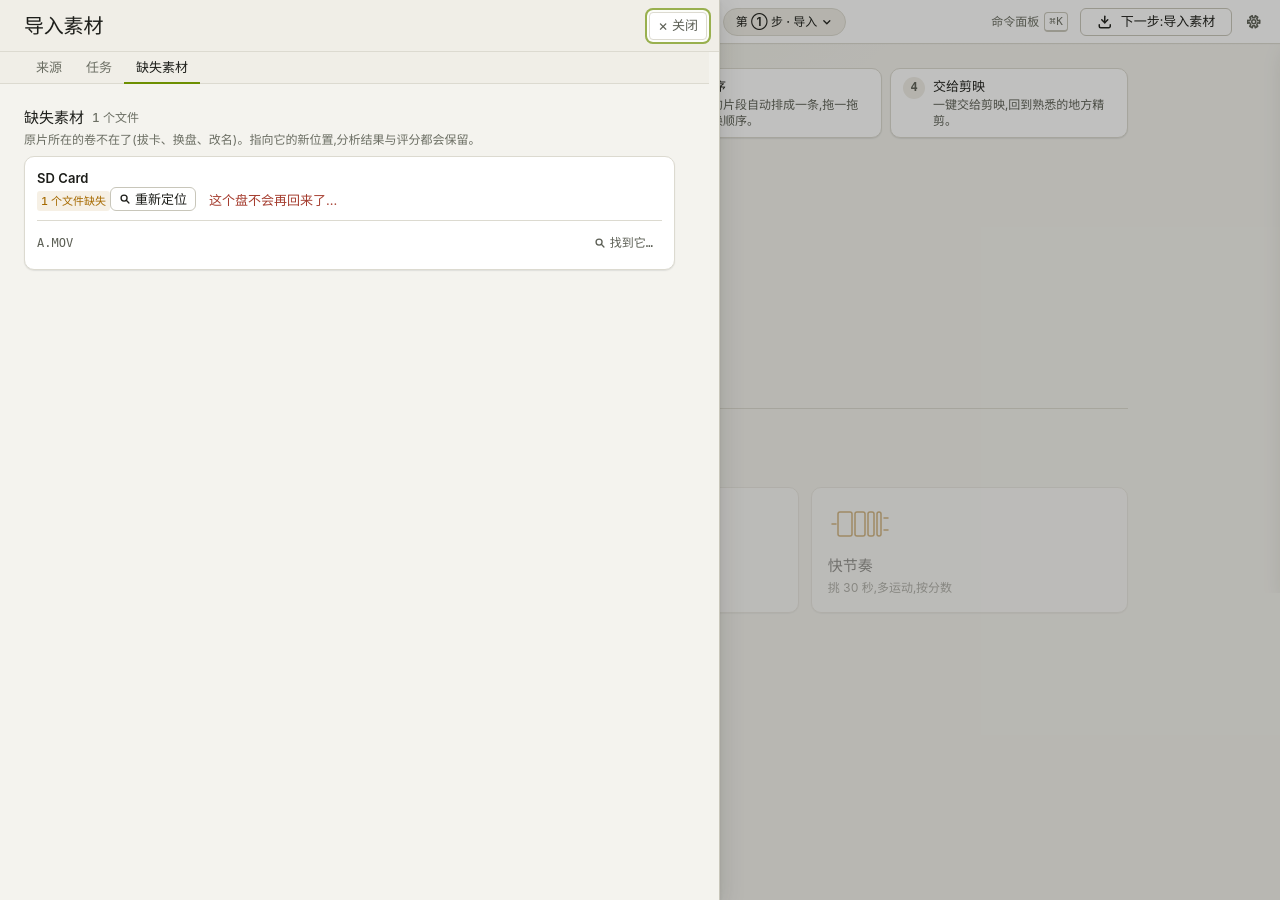
Test: 导入抽屉:原生内容(R9 Task 5) › 缺失素材分页:按卷分组 + 「重新定位」调 relinkVolume,结果摘要文案不变
expect the text "SD Card" is shown: met, box [37,170,88,186]
expect the text "A.MOV" is shown: met, box [37,236,73,250]
What coordinates should you click on to do the following:
click the button "重新定位"
I would click on:
 (153, 199)
Its box is [110,187,196,211].
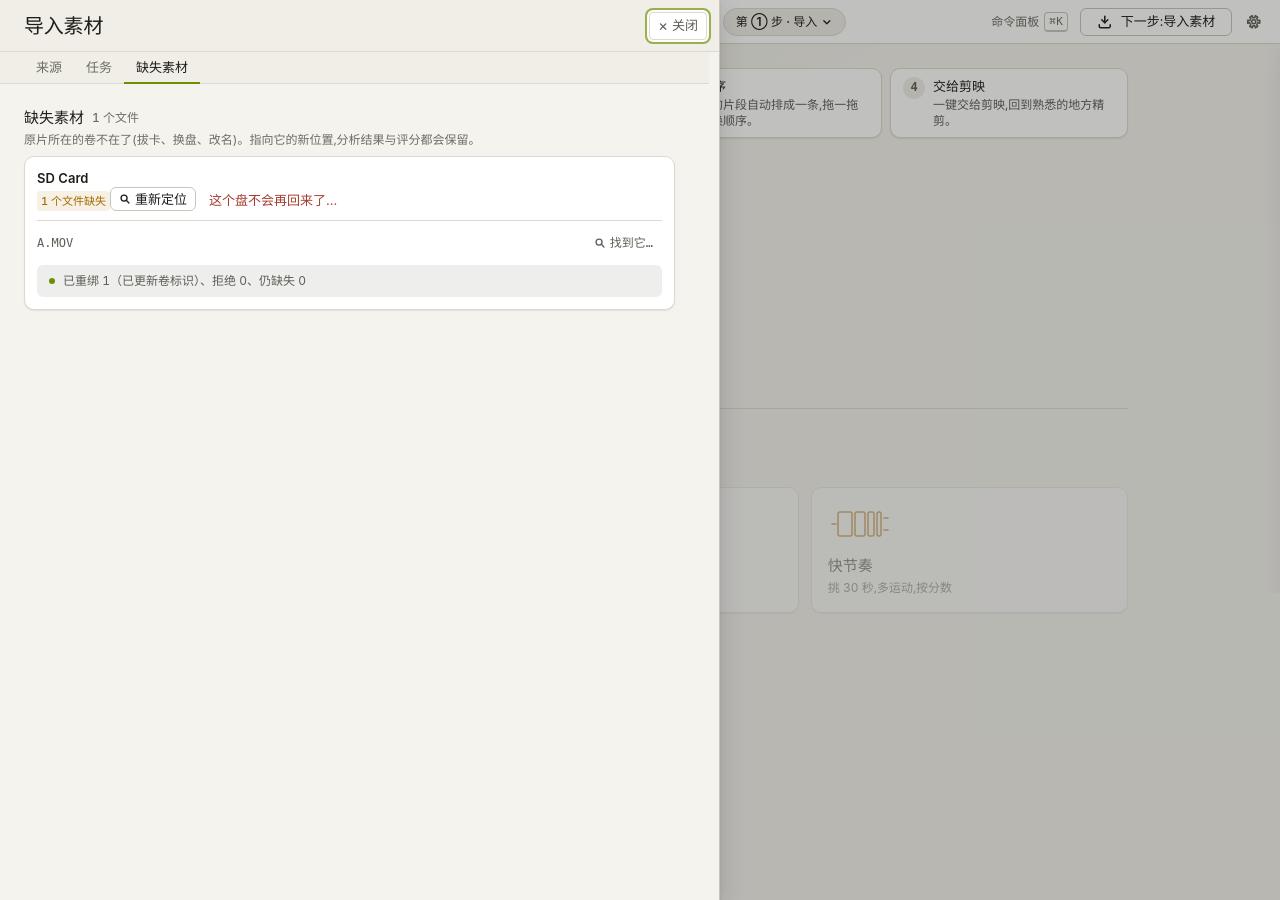
expect the text "已重绑 1（已更新卷标识）、拒绝 0、仍缺失 0" is shown: met, box [37,265,662,297]
